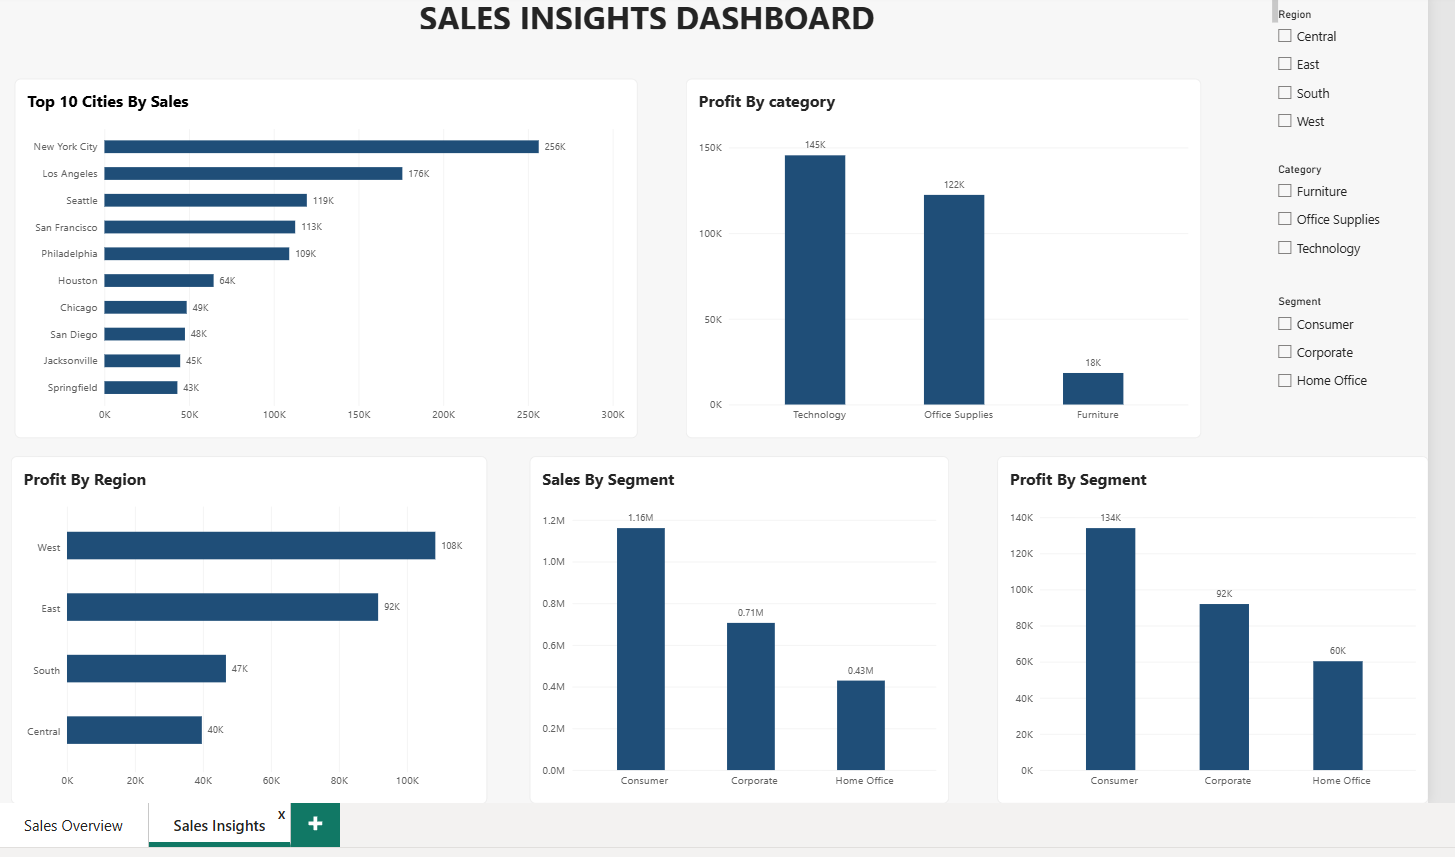

The page's visual inventory and layout, read from the dashboard file:
{"tool":"powerbi","page":{"name":"Sales  Insights","canvas":[1920,1080],"ordinal":1},"visuals":[{"type":"slicer","fields":{"Values":["Sales_Cleaned.Region"]},"box":[1712,16,192,192],"z":0},{"type":"slicer","fields":{"Values":["Sales_Cleaned.Category"]},"box":[1712,224,208,192],"z":1000},{"type":"slicer","fields":{"Values":["Sales_Cleaned.Segment"]},"box":[1712,400,208,176],"z":2000},{"type":"textbox","box":[41.2,0,1677.5,45.3],"z":3000},{"type":"textbox","box":[41,691,368,313],"z":4000},{"type":"clusteredBarChart","title":"Top 10 Cities By Sales","fields":{"Category":["Sales_Cleaned.City"],"Y":["Sum(Sales_Cleaned.Sales)"]},"box":[32,112,832,480],"z":5000},{"type":"clusteredColumnChart","title":"Profit By category","fields":{"Category":["Sales_Cleaned.Category"],"Y":["Sum(Sales_Cleaned.Profit)"]},"box":[928,112,688,480],"z":6000},{"type":"clusteredBarChart","title":"Profit By Region","fields":{"Category":["Sales_Cleaned.Region"],"Y":["Sum(Sales_Cleaned.Profit)"]},"box":[26.8,615.4,636,465.2],"z":7000},{"type":"clusteredColumnChart","title":"Sales By Segment","fields":{"Category":["Sales_Cleaned.Segment"],"Y":["Sum(Sales_Cleaned.Sales)"]},"box":[720,616,560,464],"z":8000},{"type":"clusteredColumnChart","title":"Profit By Segment","fields":{"Category":["Sales_Cleaned.Segment"],"Y":["Sum(Sales_Cleaned.Profit)"]},"box":[1344,616,576,464],"z":9000}]}

Visuals, with their boxes on the page's 1920x1080 design canvas (x1, y1, x2, y2). These are canvas units, not pixel positions in the 1455x857 screenshot, which may show the page scaled, cropped or inside an application window:
slicer - Sales_Cleaned.Region: x1=1712, y1=16, x2=1904, y2=208
slicer - Sales_Cleaned.Category: x1=1712, y1=224, x2=1920, y2=416
slicer - Sales_Cleaned.Segment: x1=1712, y1=400, x2=1920, y2=576
textbox: x1=41, y1=0, x2=1719, y2=45
textbox: x1=41, y1=691, x2=409, y2=1004
"Top 10 Cities By Sales" clusteredBarChart: x1=32, y1=112, x2=864, y2=592
"Profit By category" clusteredColumnChart: x1=928, y1=112, x2=1616, y2=592
"Profit By Region" clusteredBarChart: x1=27, y1=615, x2=663, y2=1081
"Sales By Segment" clusteredColumnChart: x1=720, y1=616, x2=1280, y2=1080
"Profit By Segment" clusteredColumnChart: x1=1344, y1=616, x2=1920, y2=1080
